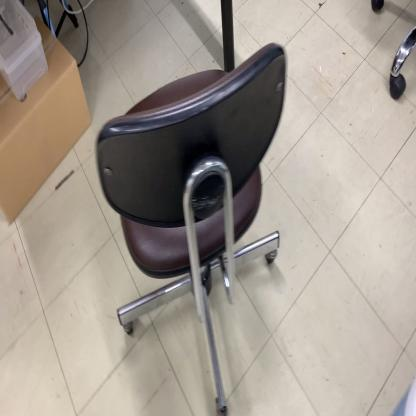chair: (95, 40, 287, 412)
